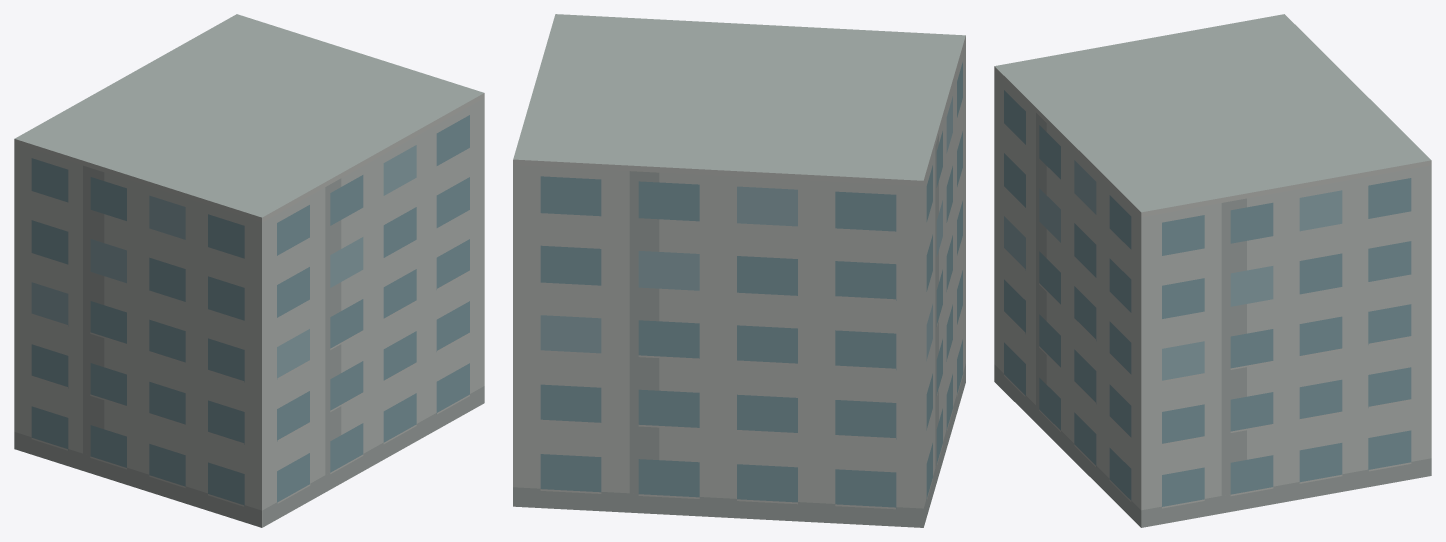
The model's file is residential-bd960ca8-9d8a-4779-8c59-6907094d3d2e.glb.
3 renders of one model, left to right at view 1: azimuth 30°, elevation 25°; view 2: azimuth 150°, elevation 25°; view 3: azimuth 270°, elevation 25°, orthographic. The views are drawn at different scales.
Parts seen in each view (by area): view 1: residential-bd960ca8-9d8a-4779-8c59-6907094d3d2e.tmp; view 2: residential-bd960ca8-9d8a-4779-8c59-6907094d3d2e.tmp; view 3: residential-bd960ca8-9d8a-4779-8c59-6907094d3d2e.tmp.
Boxes of the visible parts, x1,y1,x2,y2 form: residential-bd960ca8-9d8a-4779-8c59-6907094d3d2e.tmp: [14, 14, 484, 527]; residential-bd960ca8-9d8a-4779-8c59-6907094d3d2e.tmp: [513, 14, 965, 527]; residential-bd960ca8-9d8a-4779-8c59-6907094d3d2e.tmp: [994, 14, 1431, 527].
Bounding box in the file's own units: 20.56 × 15.25 × 19.16.
